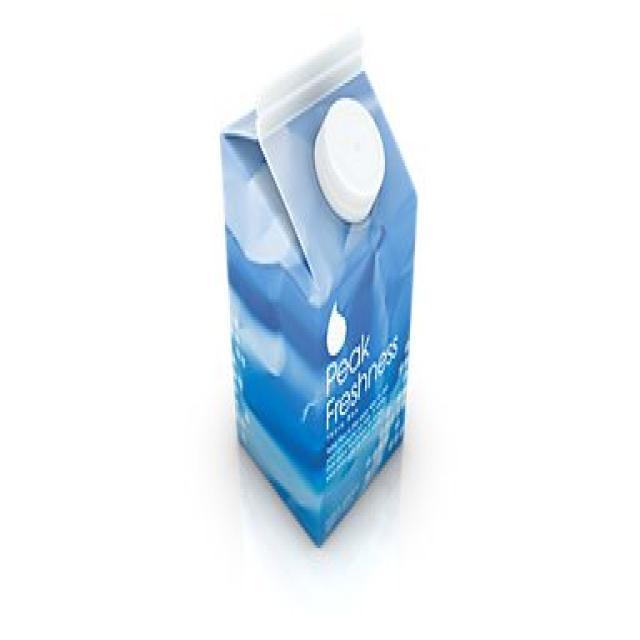Carton: (207, 8, 421, 556)
